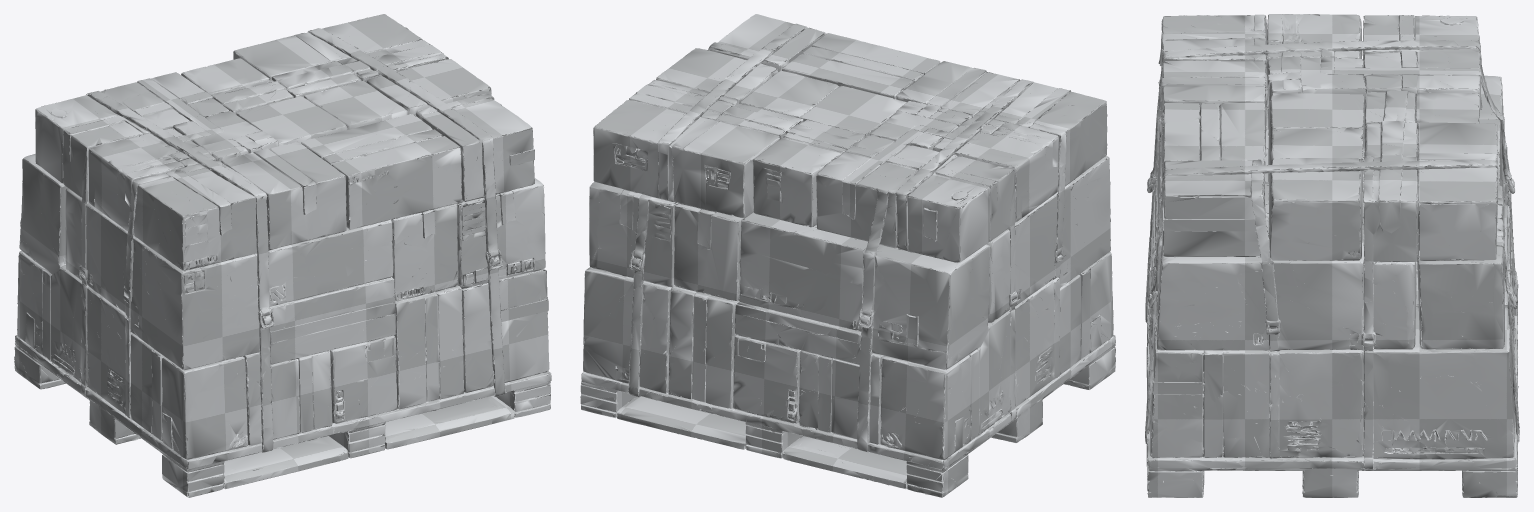
Rendered from white.glb.
3 renders of one model, left to right at view 1: azimuth 30°, elevation 25°; view 2: azimuth 150°, elevation 25°; view 3: azimuth 270°, elevation 25°, orthographic. The views are drawn at different scales.
Visible parts, largest first — view 1: white_mesh; view 2: white_mesh; view 3: white_mesh.
Part boxes in pixels (<box>): white_mesh: <box>14,14,551,497</box>; white_mesh: <box>580,14,1115,497</box>; white_mesh: <box>1145,14,1519,497</box>.
Size of the model in its own units: 2.61 by 1.91 by 2.15.
Materials: 1 (1 with a texture image).
